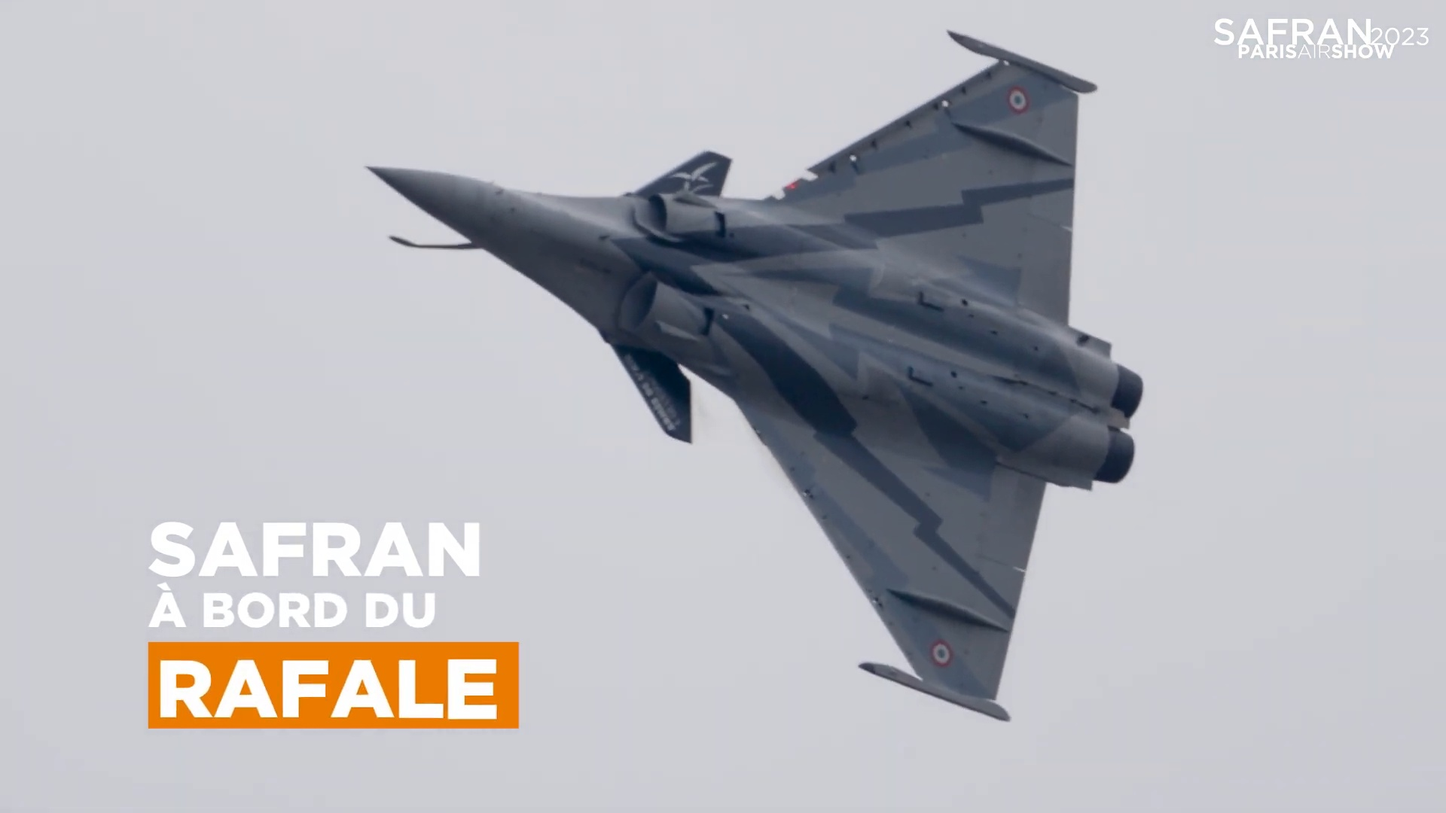Rafale: (351, 26, 1156, 736)
